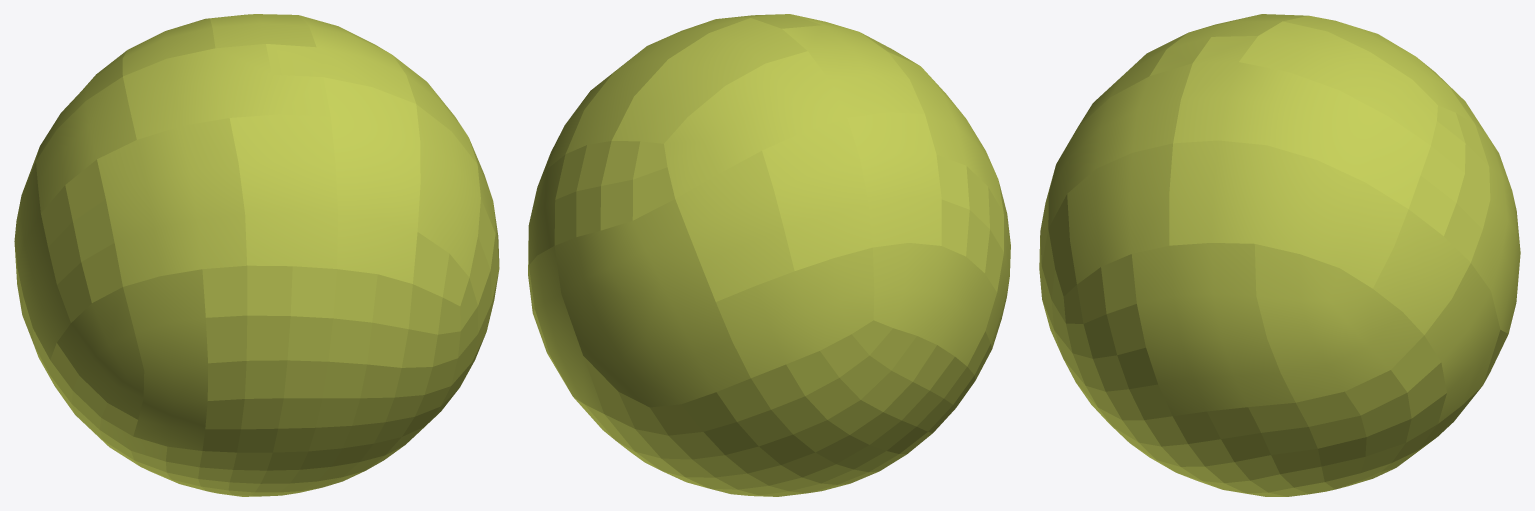
Rendered from moon_cluster_export_no_uv.FBX.
3 renders of one model, left to right at view 1: azimuth 30°, elevation 25°; view 2: azimuth 150°, elevation 25°; view 3: azimuth 270°, elevation 25°, orthographic.
Parts seen in each view (by area): view 1: moon_cluster_18, moon_cluster_28, moon_cluster_16, moon_cluster_29, moon_cluster_17, moon_cluster_02, moon_cluster_20, moon_cluster_00, moon_cluster_15, moon_cluster_42, moon_cluster_21, moon_cluster_30 (+14 smaller); view 2: moon_cluster_05, moon_cluster_38, moon_cluster_06, moon_cluster_08, moon_cluster_03, moon_cluster_04, moon_cluster_19, moon_cluster_01, moon_cluster_07, moon_cluster_22, moon_cluster_02, moon_cluster_39 (+12 smaller); view 3: moon_cluster_10, moon_cluster_14, moon_cluster_09, moon_cluster_13, moon_cluster_23, moon_cluster_15, moon_cluster_07, moon_cluster_24, moon_cluster_16, moon_cluster_25, moon_cluster_22, moon_cluster_11 (+9 smaller).
Boxes of the visible parts, x1=… form: moon_cluster_18: x1=97, y1=118, x2=247, y2=286; moon_cluster_28: x1=202, y1=265, x2=412, y2=367; moon_cluster_16: x1=323, y1=77, x2=420, y2=283; moon_cluster_29: x1=202, y1=360, x2=432, y2=452; moon_cluster_17: x1=229, y1=114, x2=338, y2=268; moon_cluster_02: x1=123, y1=44, x2=330, y2=139; moon_cluster_20: x1=123, y1=269, x2=207, y2=450; moon_cluster_00: x1=41, y1=159, x2=122, y2=322; moon_cluster_15: x1=416, y1=104, x2=480, y2=277; moon_cluster_42: x1=402, y1=232, x2=477, y2=367; moon_cluster_21: x1=57, y1=287, x2=144, y2=419; moon_cluster_30: x1=233, y1=416, x2=414, y2=470; moon_cluster_05: x1=554, y1=199, x2=750, y2=407; moon_cluster_38: x1=716, y1=320, x2=916, y2=477; moon_cluster_06: x1=664, y1=51, x2=846, y2=198; moon_cluster_08: x1=716, y1=247, x2=874, y2=377; moon_cluster_03: x1=762, y1=118, x2=872, y2=270; moon_cluster_04: x1=675, y1=151, x2=794, y2=301; moon_cluster_19: x1=873, y1=243, x2=996, y2=366; moon_cluster_01: x1=847, y1=112, x2=941, y2=247; moon_cluster_07: x1=611, y1=18, x2=807, y2=143; moon_cluster_22: x1=554, y1=141, x2=674, y2=245; moon_cluster_02: x1=782, y1=14, x2=924, y2=117; moon_cluster_39: x1=650, y1=392, x2=801, y2=489; moon_cluster_10: x1=1169, y1=140, x2=1408, y2=288; moon_cluster_14: x1=1131, y1=243, x2=1295, y2=415; moon_cluster_09: x1=1173, y1=36, x2=1430, y2=208; moon_cluster_13: x1=1254, y1=244, x2=1424, y2=402; moon_cluster_23: x1=1248, y1=335, x2=1446, y2=474; moon_cluster_15: x1=1067, y1=143, x2=1172, y2=284; moon_cluster_07: x1=1239, y1=21, x2=1437, y2=145; moon_cluster_24: x1=1077, y1=254, x2=1172, y2=420; moon_cluster_16: x1=1048, y1=63, x2=1192, y2=228; moon_cluster_25: x1=1122, y1=407, x2=1279, y2=495; moon_cluster_22: x1=1409, y1=105, x2=1490, y2=262; moon_cluster_11: x1=1373, y1=209, x2=1470, y2=334.
Bounding box in the file's own units: 1001 × 1003 × 1000.
